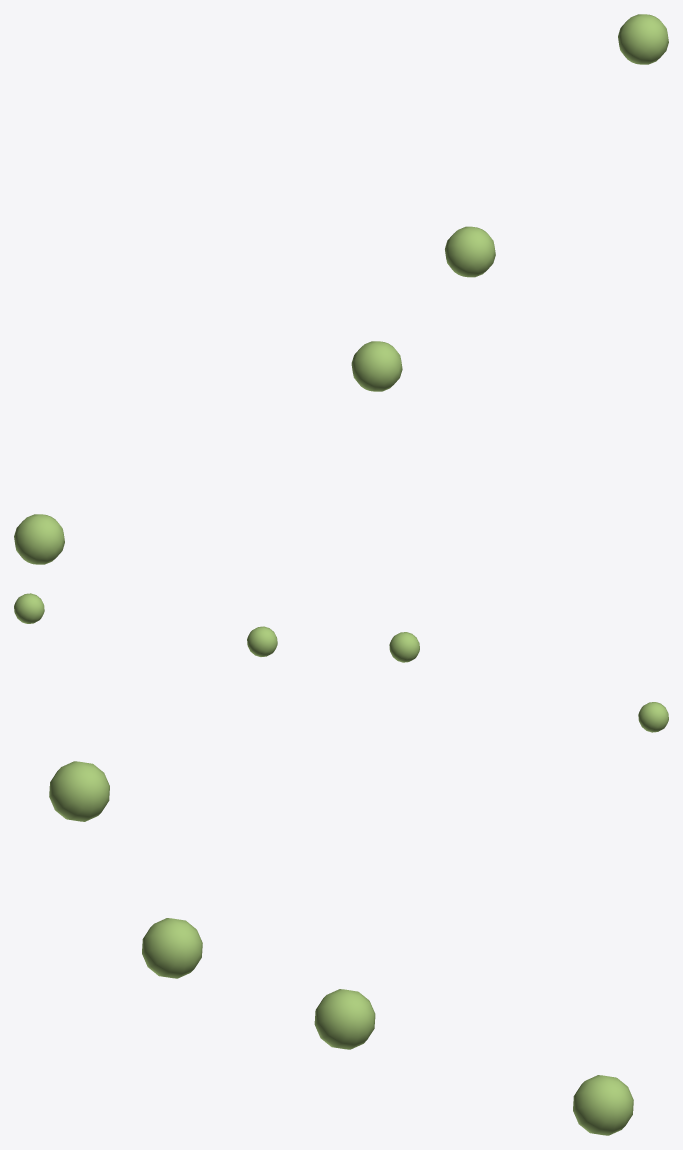
Rendered from superior-pancreatic-nodes.glb.
3 views of the same model, one above another, from view 1: azimuth 30°, elevation 25°; view 2: azimuth 150°, elevation 25°; view 3: azimuth 270°, elevation 25° (orthographic). The views are drawn at different scales.
Visible parts, largest first — view 1: Superior pancreatic nodes; view 2: Superior pancreatic nodes; view 3: Superior pancreatic nodes.
Part boxes in pixels (bbox=[...]): Superior pancreatic nodes: bbox=[14, 14, 668, 564]; Superior pancreatic nodes: bbox=[14, 593, 668, 732]; Superior pancreatic nodes: bbox=[49, 761, 633, 1135].
Size of the model in its own units: 0.0504 by 0.0103 by 0.0245.
